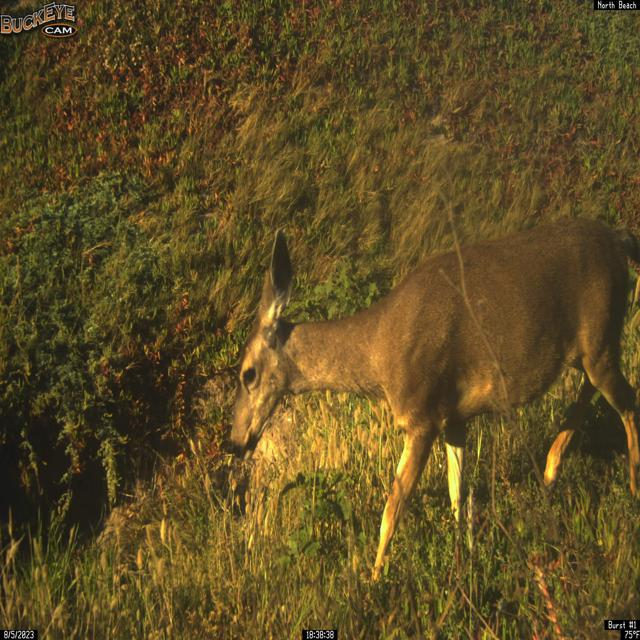deer: (228, 216, 640, 586)
